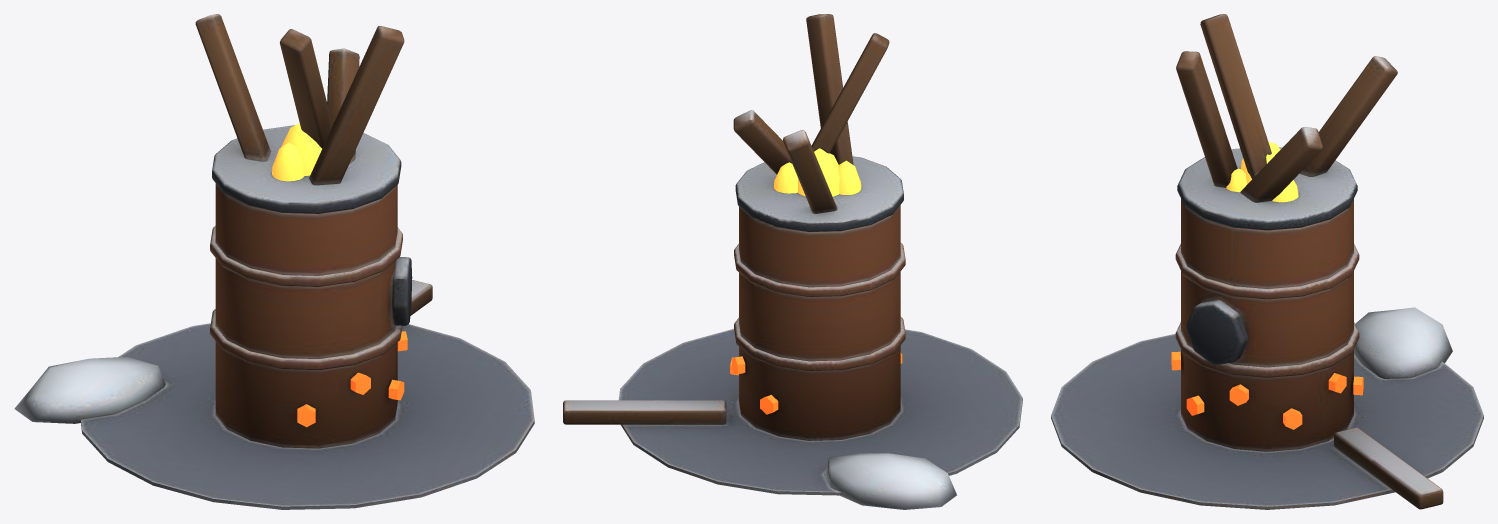
The model's file is fire_barrel.glb.
3 views of the same model, side by side, from view 1: azimuth 30°, elevation 25°; view 2: azimuth 150°, elevation 25°; view 3: azimuth 270°, elevation 25° (orthographic). The views are drawn at different scales.
Parts seen in each view (by area): view 1: fire_barrel, fire_barrel_glow; view 2: fire_barrel, fire_barrel_glow; view 3: fire_barrel, fire_barrel_glow.
Part boxes in pixels (<box>): fire_barrel: <box>14,14,534,509</box>; fire_barrel_glow: <box>272,123,407,427</box>; fire_barrel: <box>563,14,1022,509</box>; fire_barrel_glow: <box>730,148,902,414</box>; fire_barrel: <box>1051,14,1483,509</box>; fire_barrel_glow: <box>1171,141,1363,429</box>.
Bounding box in the file's own units: 1.59 × 1.48 × 1.5.
Materials: 3 (1 with a texture image).
